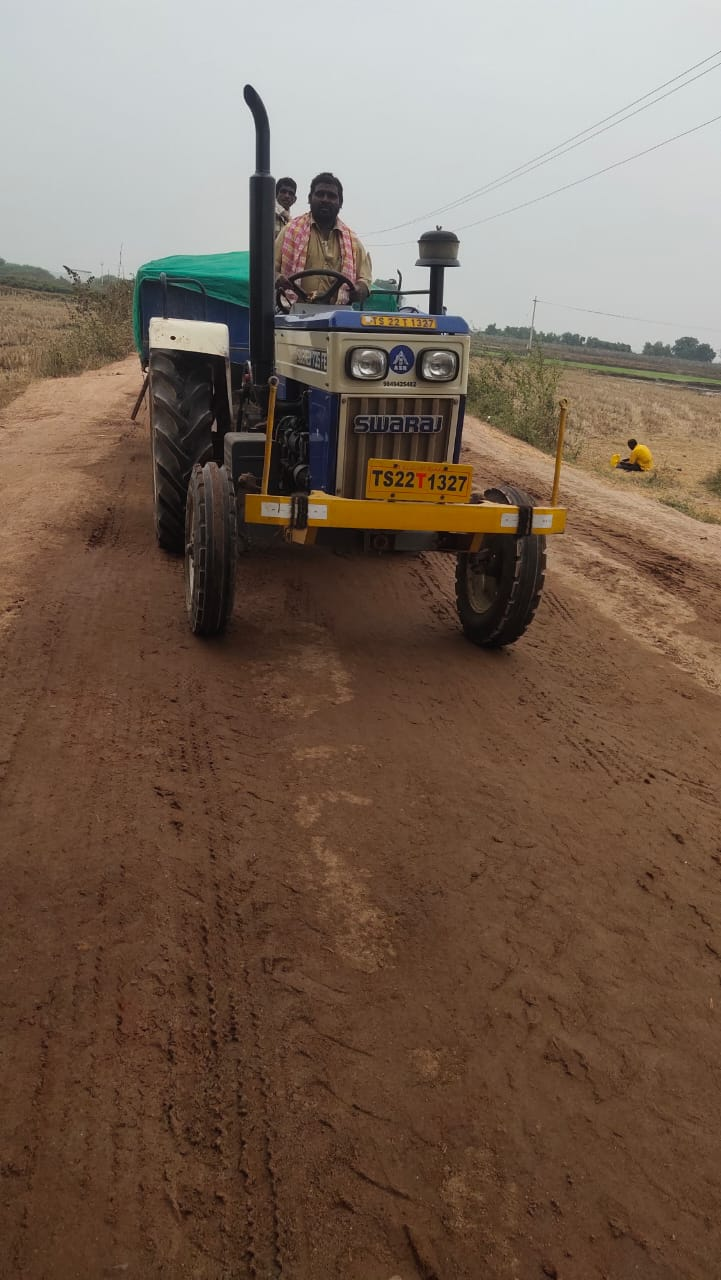num_plate: (371, 457, 471, 499)
